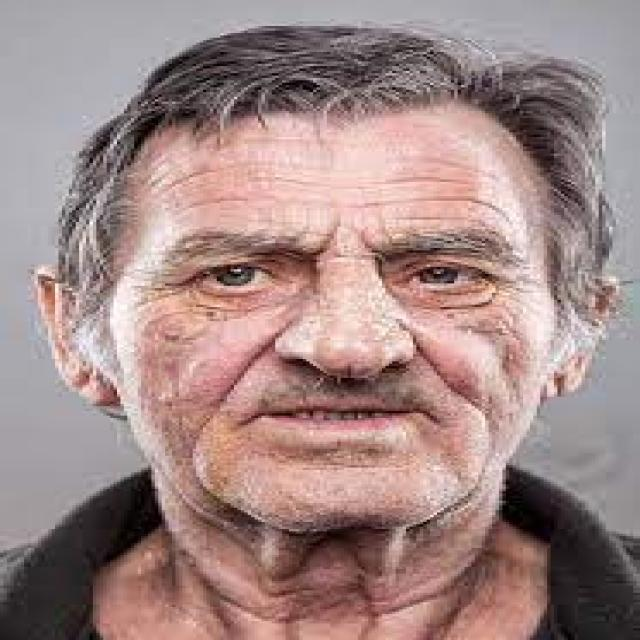Wrinkles: (146, 151, 527, 230), (444, 267, 541, 416), (119, 274, 230, 398)
